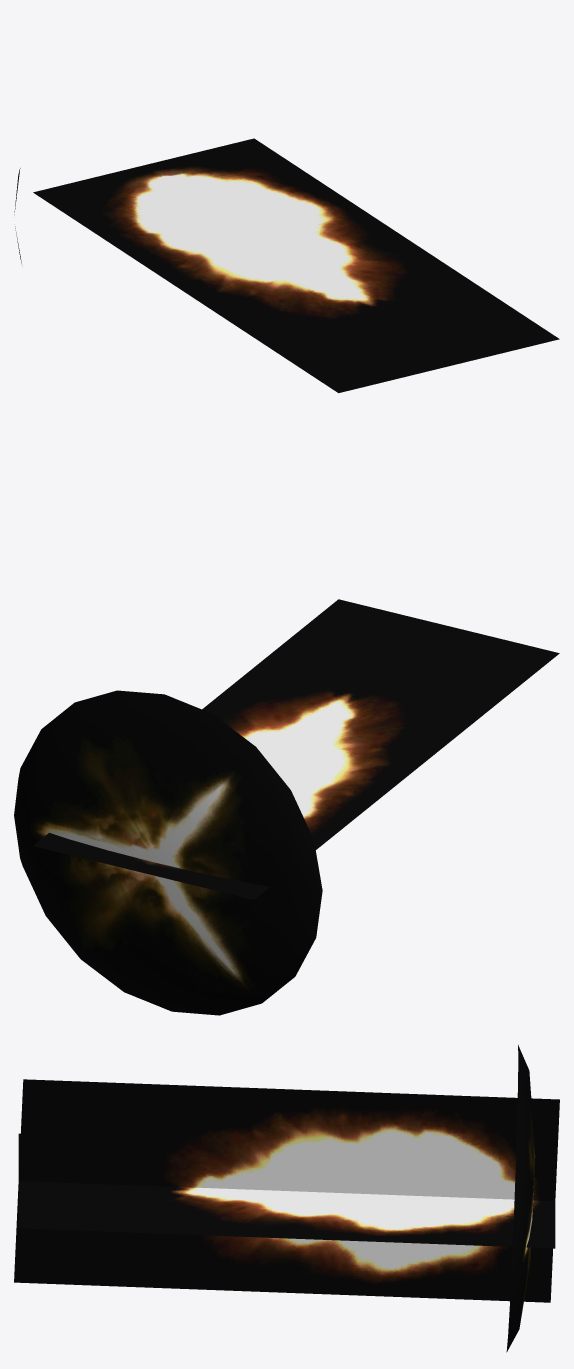
The picture shows the model from 3 angles, top to bottom: view 1: azimuth 30°, elevation 25°; view 2: azimuth 150°, elevation 25°; view 3: azimuth 270°, elevation 25°; orthographic projection. The views are drawn at different scales.
Parts seen in each view (by area): view 1: MuzzleFlash; view 2: MuzzleFlash; view 3: MuzzleFlash.
Boxes of the visible parts, left/top/right/bottom form: MuzzleFlash: left=14, top=138, right=559, bottom=393; MuzzleFlash: left=14, top=599, right=559, bottom=1015; MuzzleFlash: left=14, top=1045, right=559, bottom=1352.
Size of the model in its own units: 0.2492 by 0.249 by 0.4349.
Materials: 1 (1 with a texture image).
